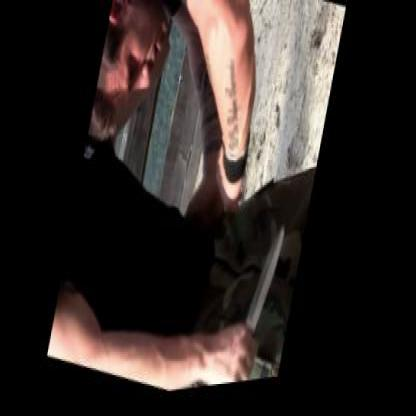knife: (219, 210, 296, 389)
